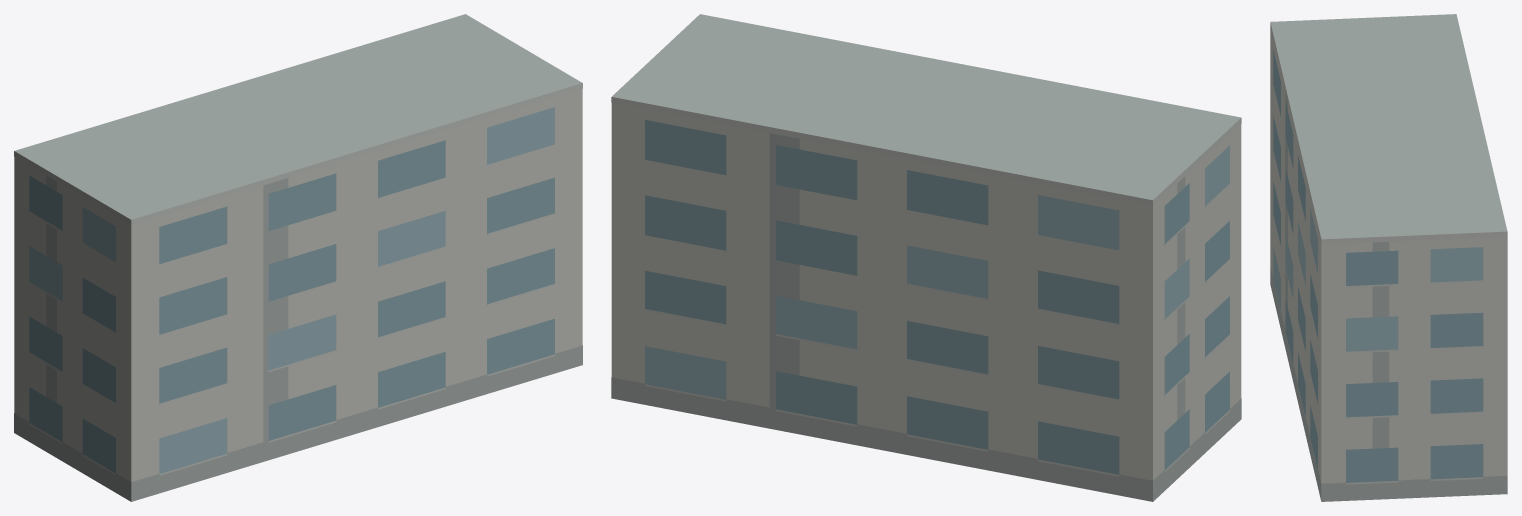
Rendered from residential-c425fb0f-a958-49c4-a447-6ab4317e421a.glb.
The picture shows the model from 3 angles, left to right: view 1: azimuth 30°, elevation 25°; view 2: azimuth 150°, elevation 25°; view 3: azimuth 270°, elevation 25°; orthographic projection. The views are drawn at different scales.
Visible parts, largest first — view 1: residential-c425fb0f-a958-49c4-a447-6ab4317e421a.tmp; view 2: residential-c425fb0f-a958-49c4-a447-6ab4317e421a.tmp; view 3: residential-c425fb0f-a958-49c4-a447-6ab4317e421a.tmp.
Part boxes in pixels (<box>): residential-c425fb0f-a958-49c4-a447-6ab4317e421a.tmp: <box>14,14,582,501</box>; residential-c425fb0f-a958-49c4-a447-6ab4317e421a.tmp: <box>611,14,1241,501</box>; residential-c425fb0f-a958-49c4-a447-6ab4317e421a.tmp: <box>1270,14,1507,501</box>.
Bounding box in the file's own units: 22.46 × 12.2 × 10.
